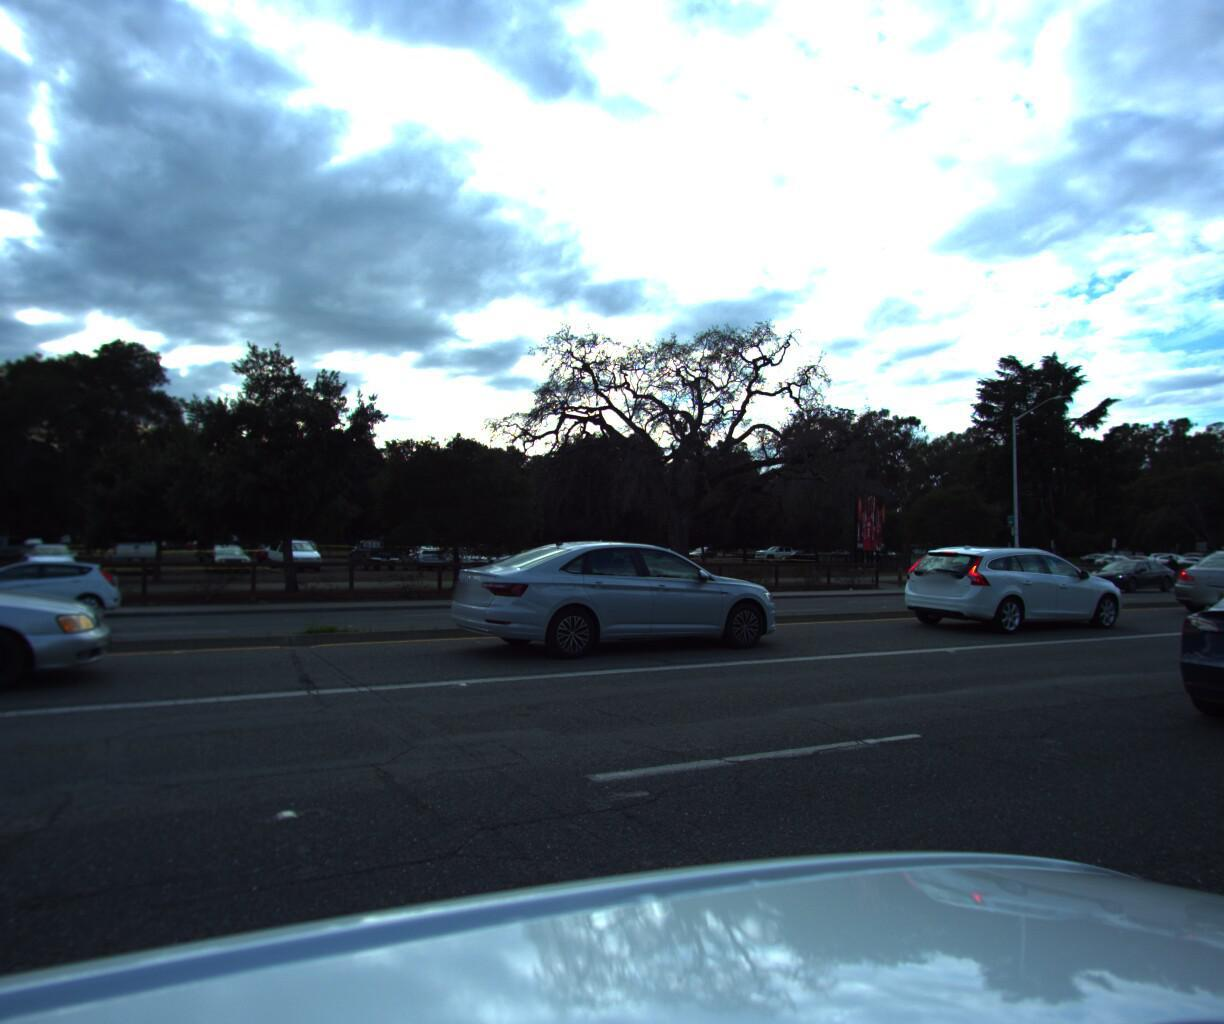car: (441, 534, 797, 665), (0, 502, 126, 745), (885, 543, 1136, 635), (1152, 558, 1224, 782), (0, 559, 129, 633), (907, 541, 1056, 599), (1156, 542, 1224, 613), (1070, 553, 1172, 591)
